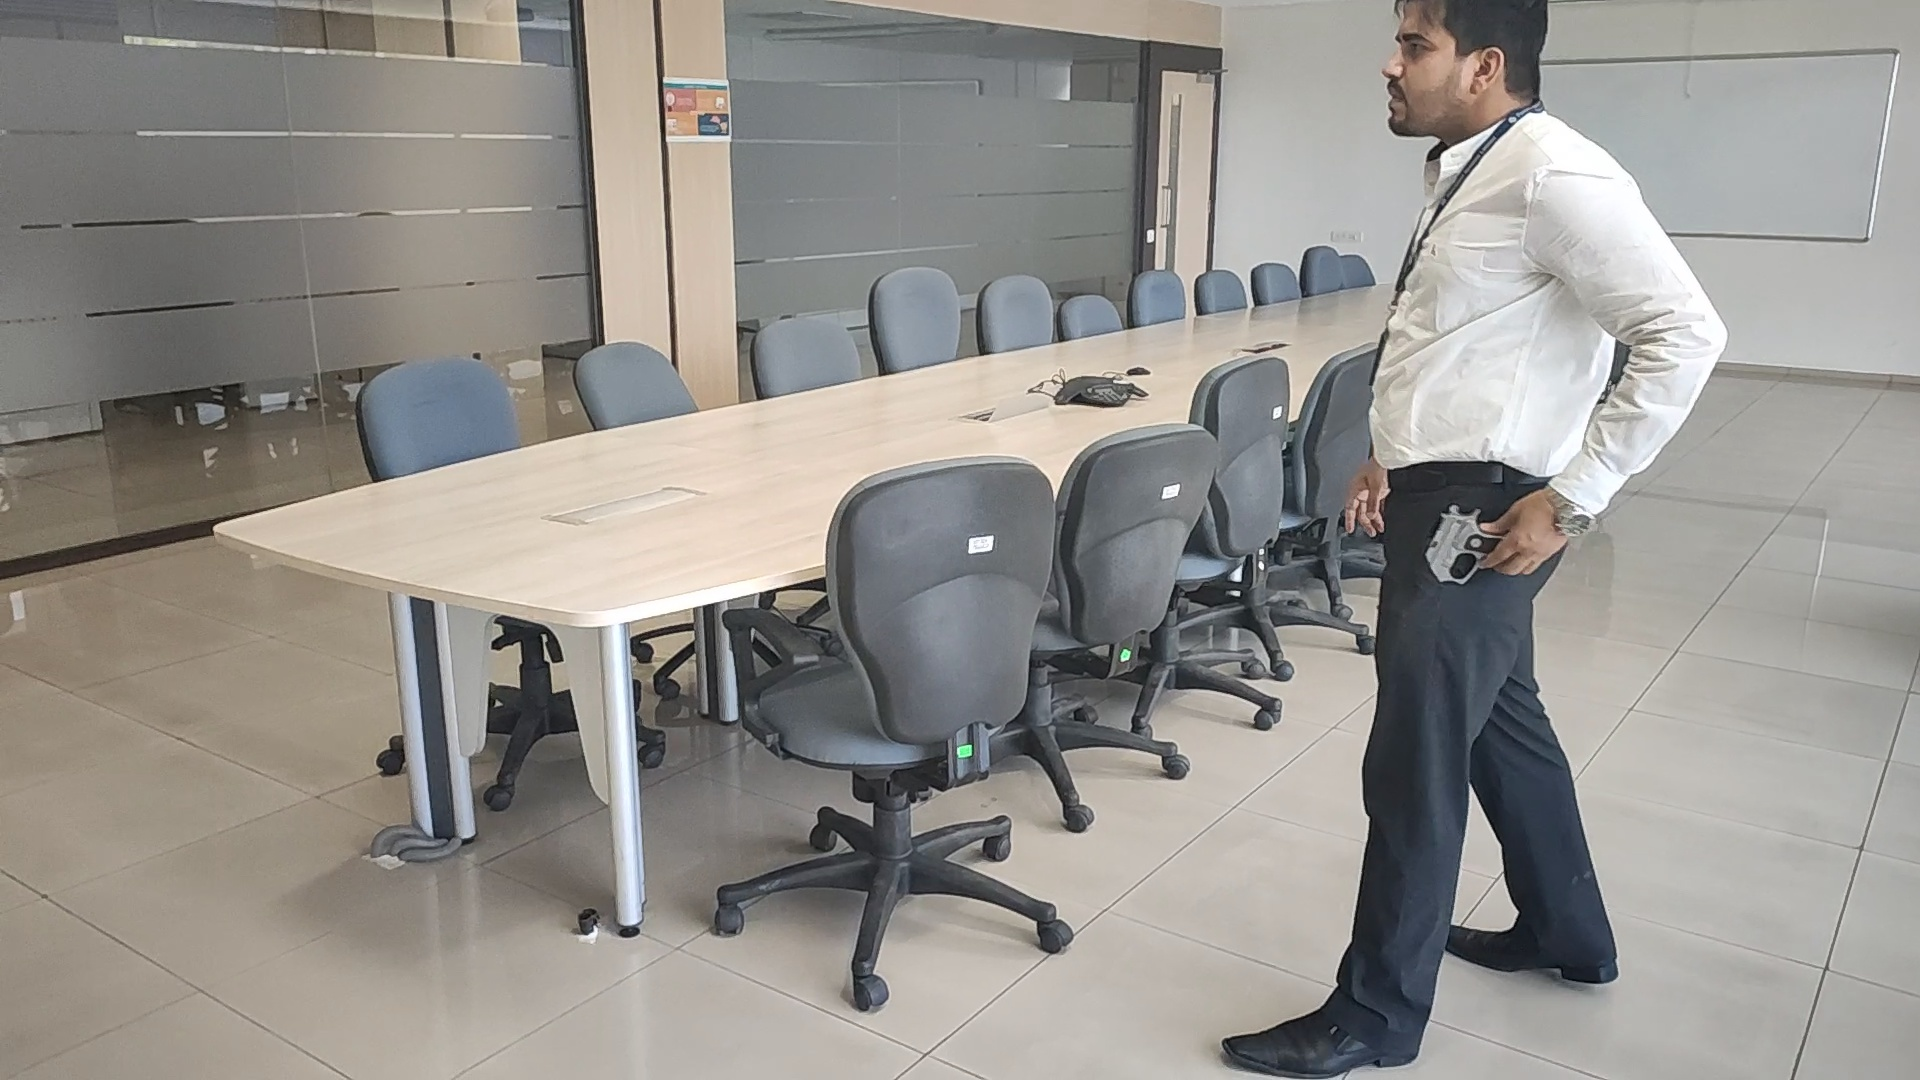gun: (1425, 505, 1502, 584)
